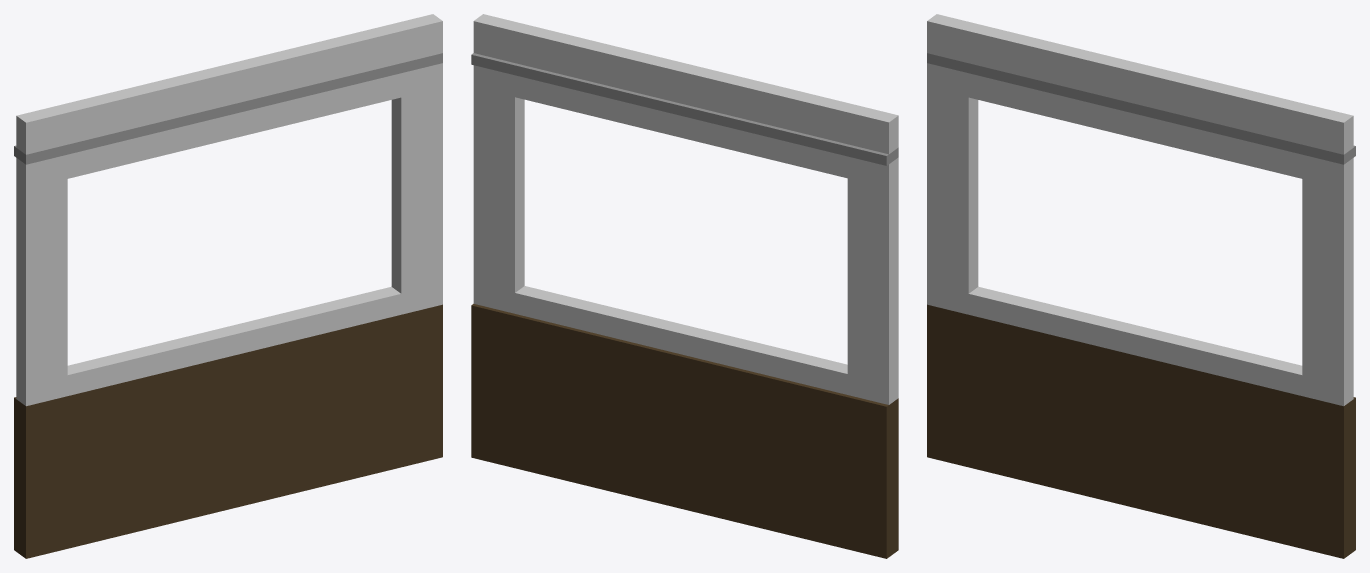
Rendered from FachadaVentana.fbx.
3 renders of one model, left to right at view 1: azimuth 30°, elevation 25°; view 2: azimuth 150°, elevation 25°; view 3: azimuth 330°, elevation 25°, orthographic.
Visible parts, largest first — view 1: Fachada Ventana; view 2: Fachada Ventana; view 3: Fachada Ventana.
Part boxes in pixels (x1,y1,x2,y2): Fachada Ventana: (14,14,442,558); Fachada Ventana: (471,14,898,558); Fachada Ventana: (927,14,1355,558).
Bounding box in the file's own units: 400 × 400 × 20.
